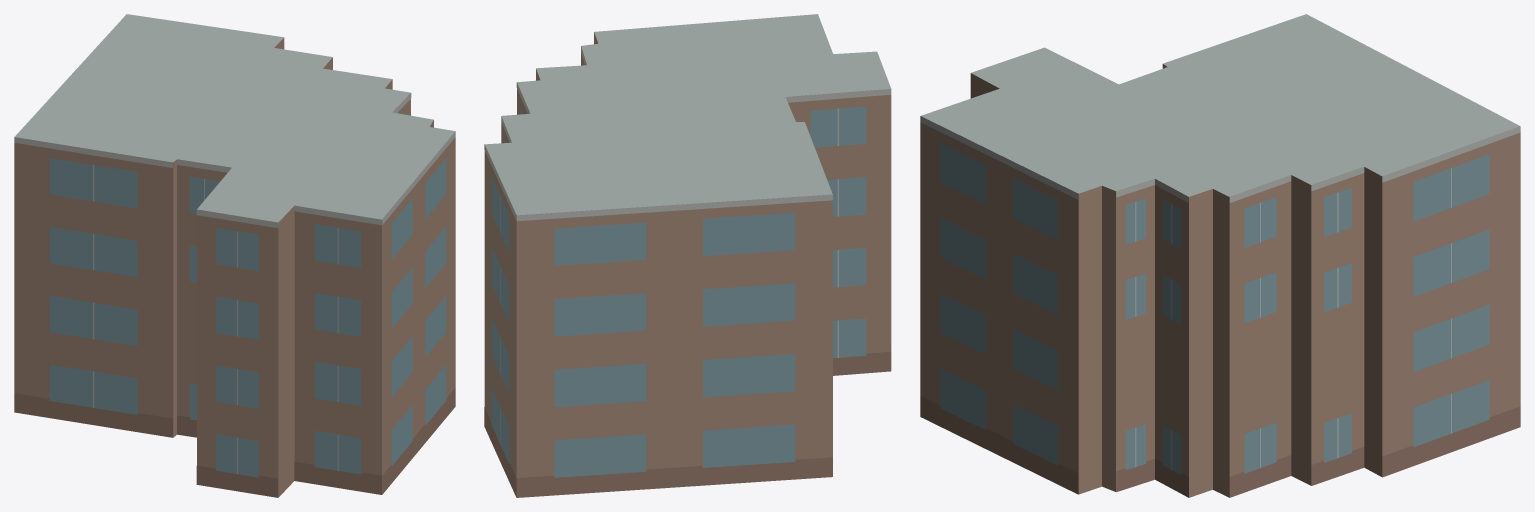
The model's file is survey-upis-32723227.glb.
3 views of the same model, side by side, from view 1: azimuth 30°, elevation 25°; view 2: azimuth 150°, elevation 25°; view 3: azimuth 270°, elevation 25° (orthographic). The views are drawn at different scales.
Visible parts, largest first — view 1: survey-upis-32723227.tmp; view 2: survey-upis-32723227.tmp; view 3: survey-upis-32723227.tmp.
Part boxes in pixels (x1=…): survey-upis-32723227.tmp: x1=14, y1=14, x2=455, y2=497; survey-upis-32723227.tmp: x1=484, y1=14, x2=891, y2=497; survey-upis-32723227.tmp: x1=920, y1=14, x2=1520, y2=497.
Bounding box in the file's own units: 15.26 × 11.7 × 21.15.
